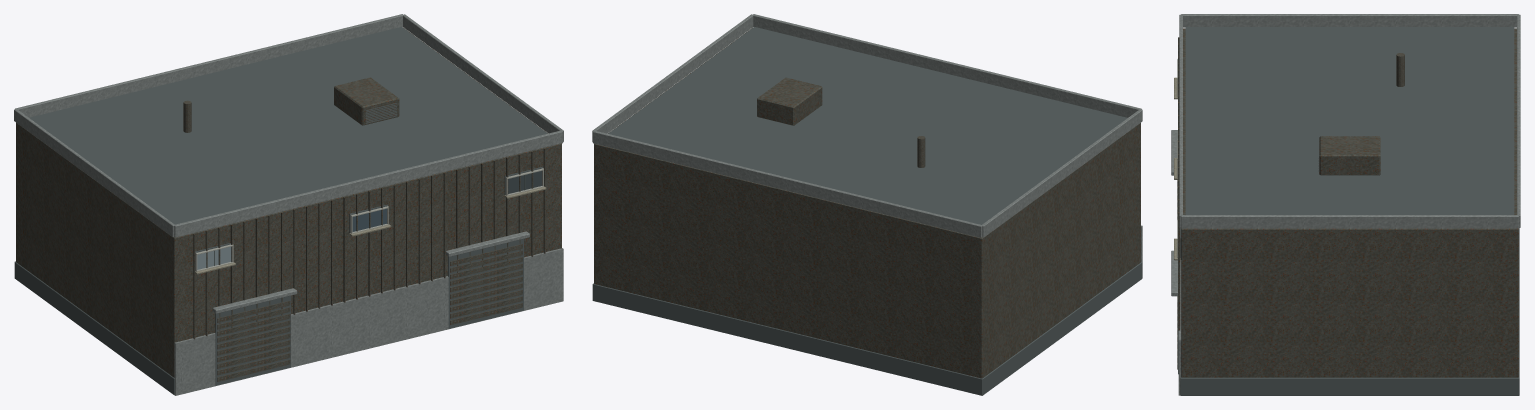
Rendered from warehouse.glb.
3 views of the same model, side by side, from view 1: azimuth 30°, elevation 25°; view 2: azimuth 150°, elevation 25°; view 3: azimuth 270°, elevation 25° (orthographic). The views are drawn at different scales.
Visible parts, largest first — view 1: warehouse / Weathered industrial steel, warehouse / Recess shadow and roofing, warehouse / Aged concrete, warehouse / Muted stone trim, warehouse / Glass 2, warehouse / Glass 0, warehouse / Glass 3; view 2: warehouse / Weathered industrial steel, warehouse / Recess shadow and roofing, warehouse / Aged concrete; view 3: warehouse / Recess shadow and roofing, warehouse / Weathered industrial steel, warehouse / Aged concrete.
Part boxes in pixels (x1,y1,x2,y2): warehouse / Weathered industrial steel: (16,27,561,381); warehouse / Recess shadow and roofing: (14,27,547,395); warehouse / Aged concrete: (14,14,563,395); warehouse / Muted stone trim: (195,168,543,271); warehouse / Glass 2: (197,246,231,269); warehouse / Glass 0: (352,208,386,231); warehouse / Glass 3: (508,171,541,193); warehouse / Weathered industrial steel: (594,27,1140,378); warehouse / Recess shadow and roofing: (592,27,1142,395); warehouse / Aged concrete: (592,14,1142,277); warehouse / Recess shadow and roofing: (1178,27,1519,395); warehouse / Weathered industrial steel: (1177,28,1518,377); warehouse / Aged concrete: (1171,14,1520,395).
Size of the model in its own units: 31.25 by 14.4 by 22.77.
9 materials, 3 textured.
